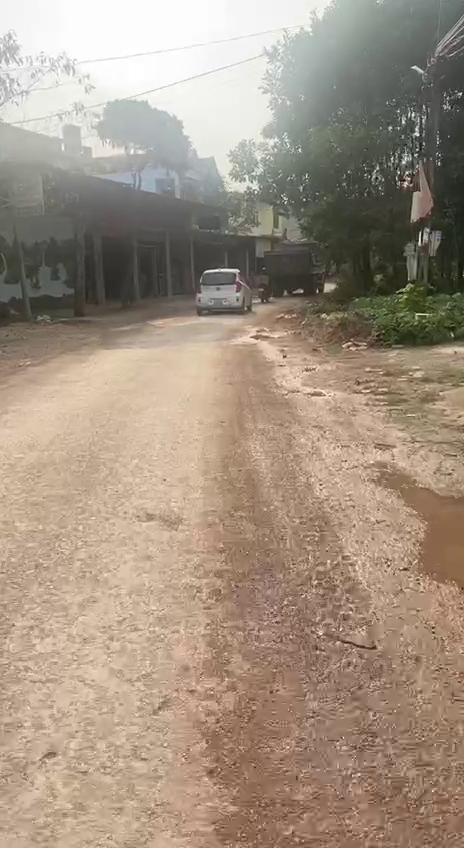pothole: (363, 457, 464, 599)
